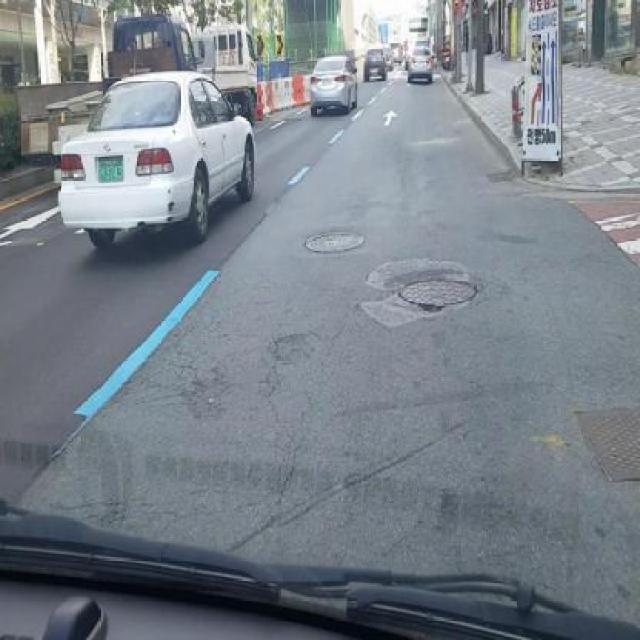Manhole: (581, 401, 640, 484), (396, 276, 478, 314), (304, 234, 367, 252), (482, 170, 517, 180)
Pothole: (264, 326, 320, 366), (416, 300, 448, 314)
